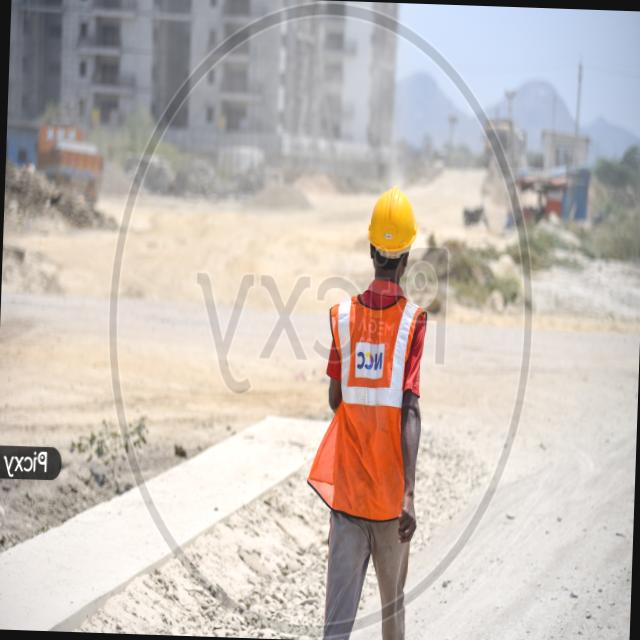helmet: (363, 182, 422, 255)
vest: (311, 292, 428, 526)
